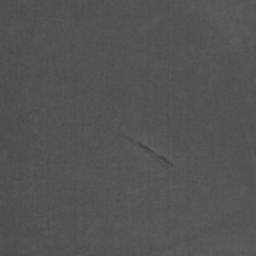Rolled pit: (137, 142, 173, 167)
